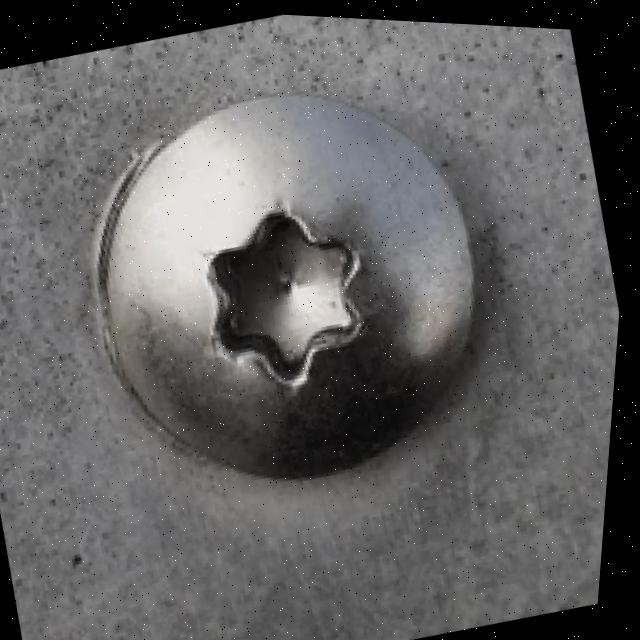Torx: (51, 47, 532, 529)
